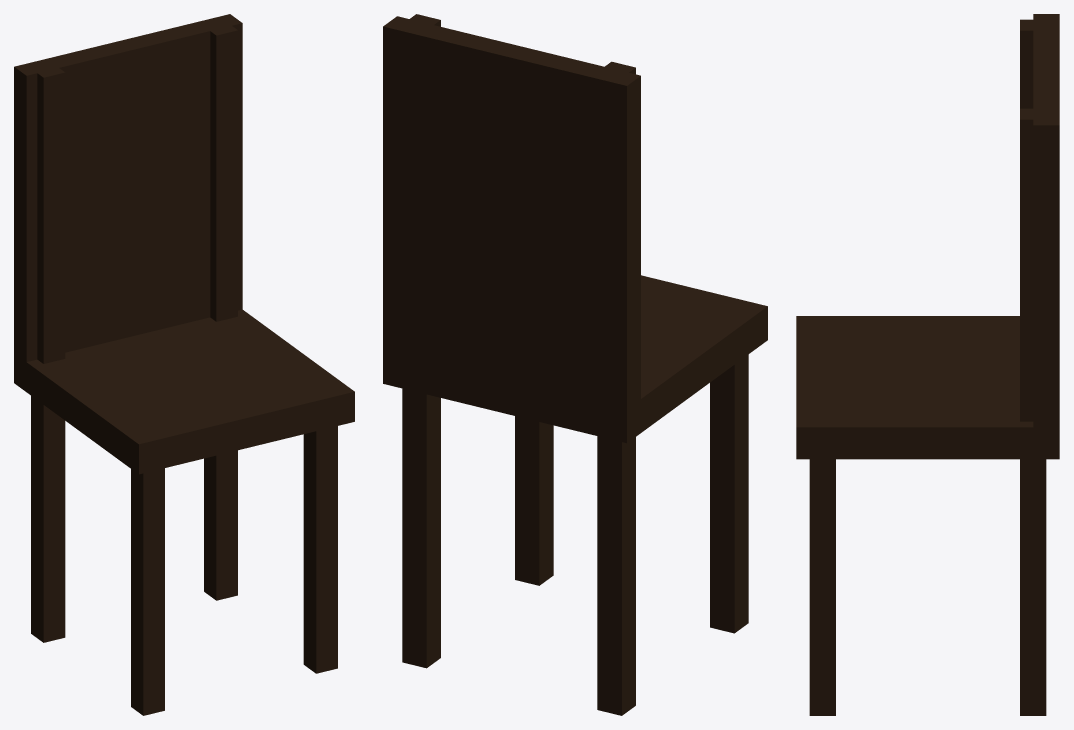
Rendered from chair.glb.
3 renders of one model, left to right at view 1: azimuth 30°, elevation 25°; view 2: azimuth 150°, elevation 25°; view 3: azimuth 270°, elevation 25°, orthographic. The views are drawn at different scales.
Bounding box in the file's own units: 0.6 × 1.5 × 0.6.
